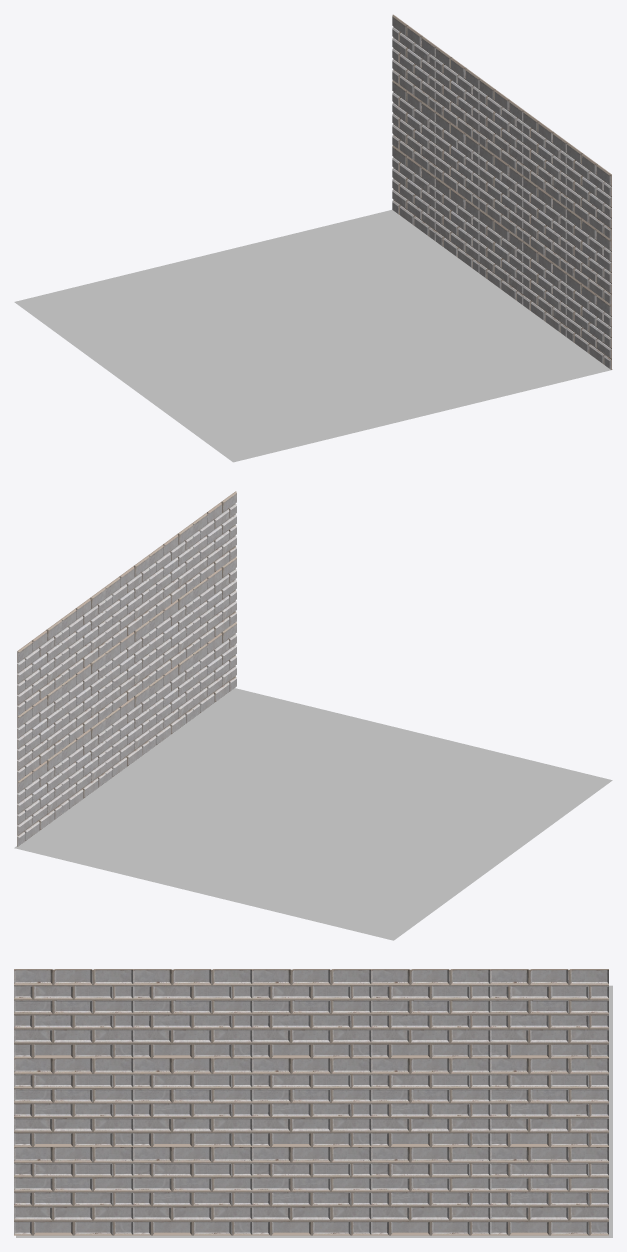
The model's file is walls + floor.fbx.
3 renders of one model, top to bottom at view 1: azimuth 30°, elevation 25°; view 2: azimuth 150°, elevation 25°; view 3: azimuth 270°, elevation 25°, orthographic. The views are drawn at different scales.
Parts seen in each view (by area): view 1: Floor, Wall; view 2: Floor, Wall; view 3: Wall, Floor.
Part boxes in pixels (bbox=[...]): Floor: bbox=[14, 210, 612, 462]; Wall: bbox=[392, 14, 611, 369]; Floor: bbox=[14, 688, 612, 940]; Wall: bbox=[17, 491, 236, 846]; Wall: bbox=[14, 969, 608, 1235]; Floor: bbox=[16, 985, 612, 1237].
Bounding box in the file's own units: 4726 × 2335 × 4742.
